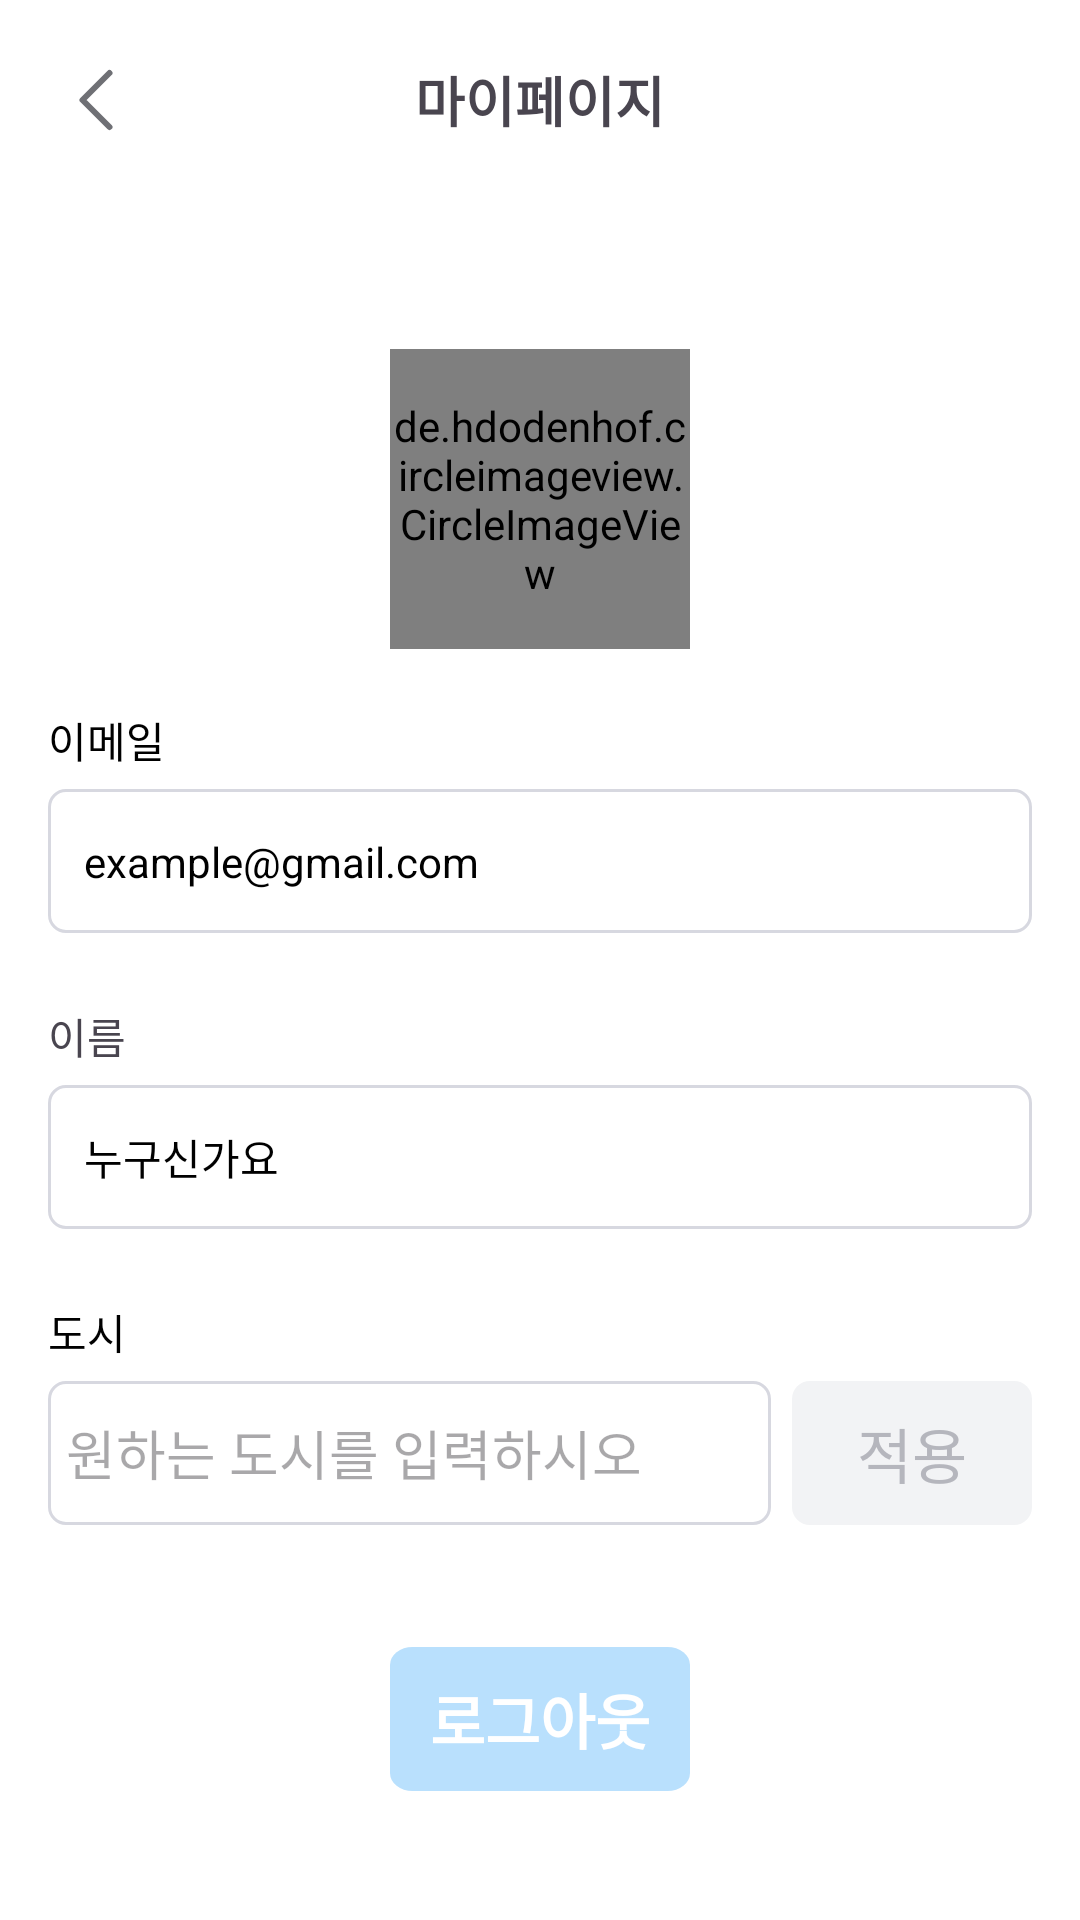

Where to tap for icons on this 1080 × 1920 app screen, as (x,y):
back: (96,99)
